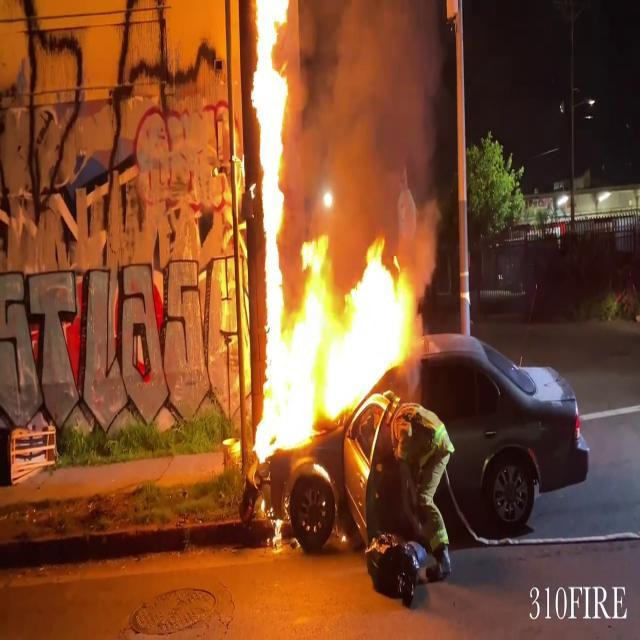Fire: (250, 230, 423, 454), (248, 1, 306, 363)
Smoke: (285, 0, 449, 239)
